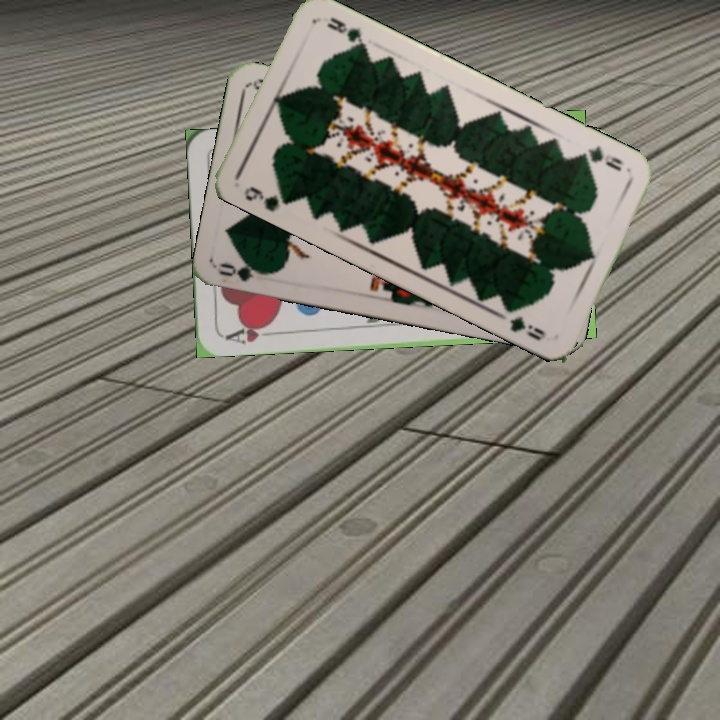G9: (240, 182, 295, 215), (575, 141, 626, 174)
GO: (215, 256, 276, 284)
HA: (221, 319, 279, 347)
